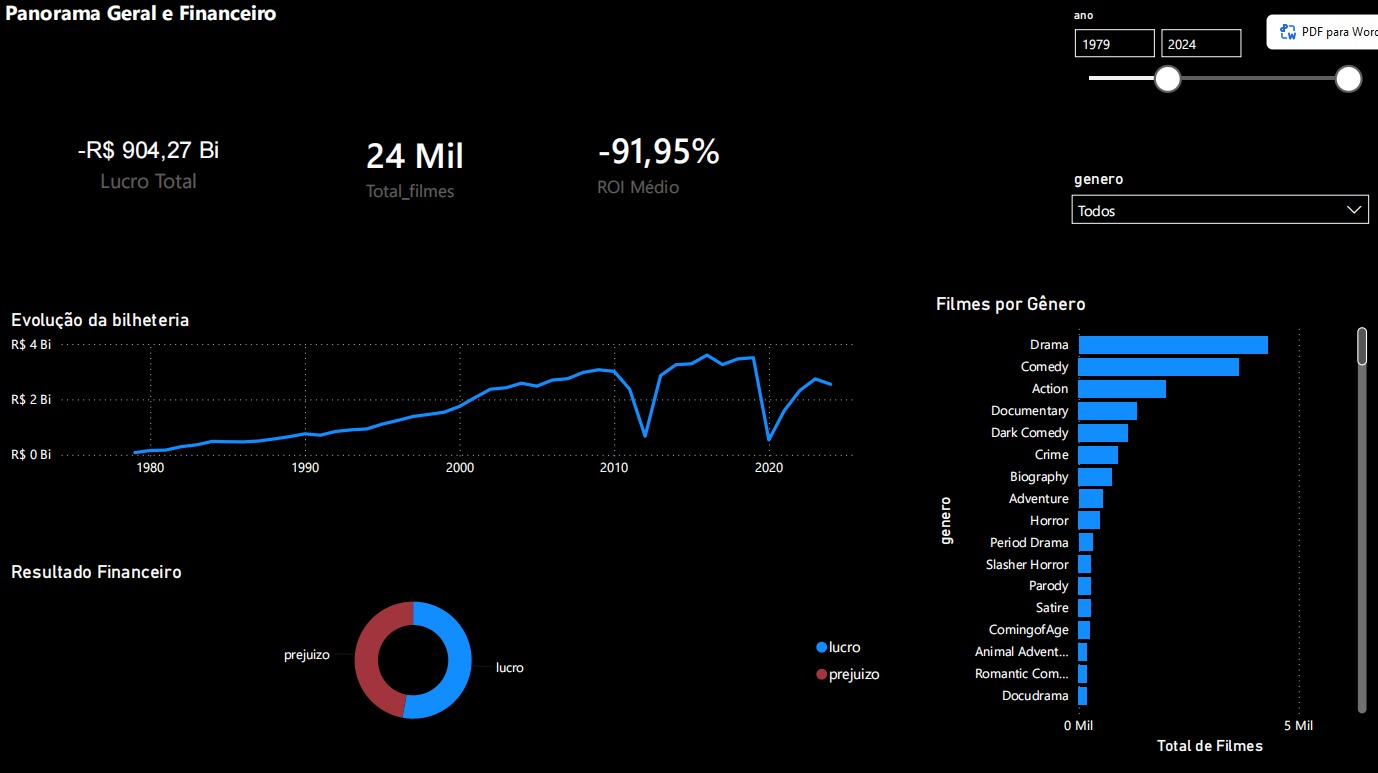

Layout of this report page (visuals, bound fields, positions):
{"tool":"powerbi","page":{"name":"VISÃO GERAL","canvas":[1280,720],"ordinal":0},"visuals":[{"type":"textbox","box":[0,0,1280,81.7],"z":1000},{"type":"cardVisual","fields":{"Data":["filmes.Total_filmes"]},"box":[313.2,97.3,194.5,122.6],"z":2000},{"type":"cardVisual","fields":{"Data":["filmes.ROI Médio"]},"box":[527.2,97.3,188.7,115.7],"z":3000},{"type":"cardVisual","fields":{"Data":["filmes.Lucro Total"]},"box":[0,96.3,283,124.5],"z":4000},{"type":"lineChart","title":"Evolução da bilheteria","fields":{"Category":["filmes.ano"],"Y":["Sum(filmes.bilheteria)"]},"box":[9.7,290.8,794.7,165.3],"z":5000},{"type":"donutChart","title":"Resultado Financeiro","fields":{"Category":["filmes.resultado_financeiro"],"Y":["filmes.Total_filmes"]},"box":[9.7,524.3,822.9,165.3],"z":6000},{"type":"slicer","fields":{"Values":["filmes.ano"]},"box":[985.3,8.8,287.3,146.3],"z":7000},{"type":"slicer","fields":{"Values":["filmes.genero"]},"box":[985.3,157.6,294.7,119.6],"z":8000},{"type":"clusteredBarChart","title":"Filmes por Gênero","fields":{"Category":["filmes.genero"],"Y":["filmes.Total_filmes"]},"box":[864.7,277.2,407.5,430.9],"z":9000}]}

Visuals, with their boxes in screenshot pixels (x1, y1, x2, y2), scaled from the page's 1280x720 canvas onto the 1378x773 screenshot:
textbox: 0, 0, 1377, 88
cardVisual - filmes.Total_filmes: 337, 104, 547, 236
cardVisual - filmes.ROI Médio: 568, 104, 771, 229
cardVisual - filmes.Lucro Total: 0, 103, 305, 237
"Evolução da bilheteria" lineChart: 10, 312, 866, 490
"Resultado Financeiro" donutChart: 10, 563, 896, 740
slicer - filmes.ano: 1061, 9, 1370, 167
slicer - filmes.genero: 1061, 169, 1377, 298
"Filmes por Gênero" clusteredBarChart: 931, 298, 1370, 760
